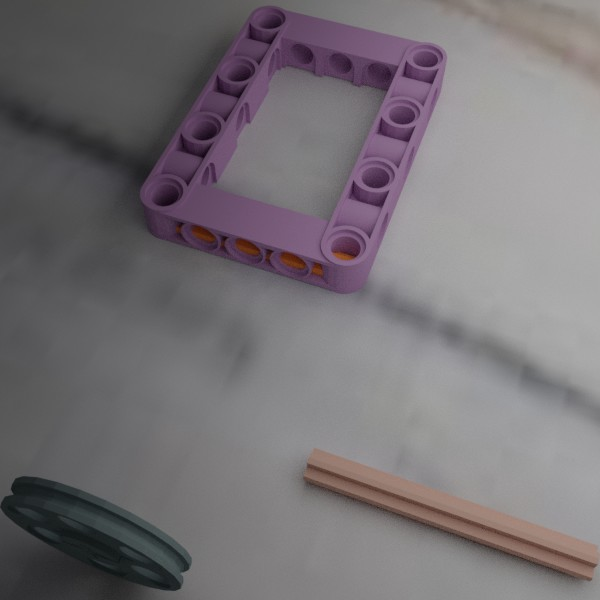lego: (139, 5, 447, 293), (303, 447, 600, 581), (0, 476, 191, 591), (172, 206, 360, 284)
